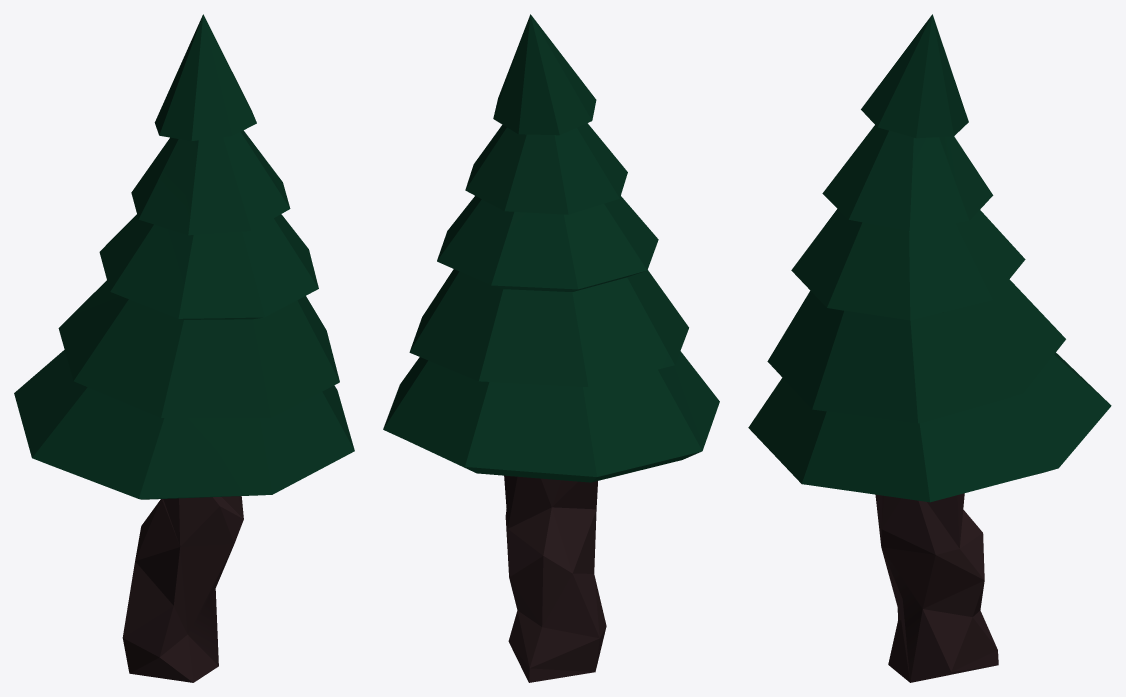
Rendered from tree_02.fbx.
The picture shows the model from 3 angles, left to right: view 1: azimuth 30°, elevation 25°; view 2: azimuth 150°, elevation 25°; view 3: azimuth 270°, elevation 25°; orthographic projection. The views are drawn at different scales.
Visible parts, largest first — view 1: Cylinder002; view 2: Cylinder002; view 3: Cylinder002.
Part boxes in pixels (x1,y1,x2,y2): Cylinder002: (14, 14, 354, 682); Cylinder002: (383, 14, 719, 682); Cylinder002: (748, 14, 1111, 682).
Bounding box in the file's own units: 53.95 × 109 × 53.78.
